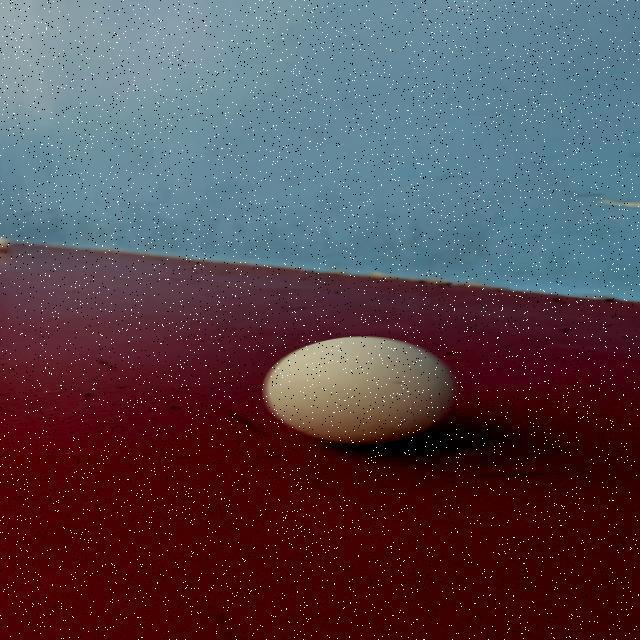ping-pong-ball: (253, 332, 469, 448)
